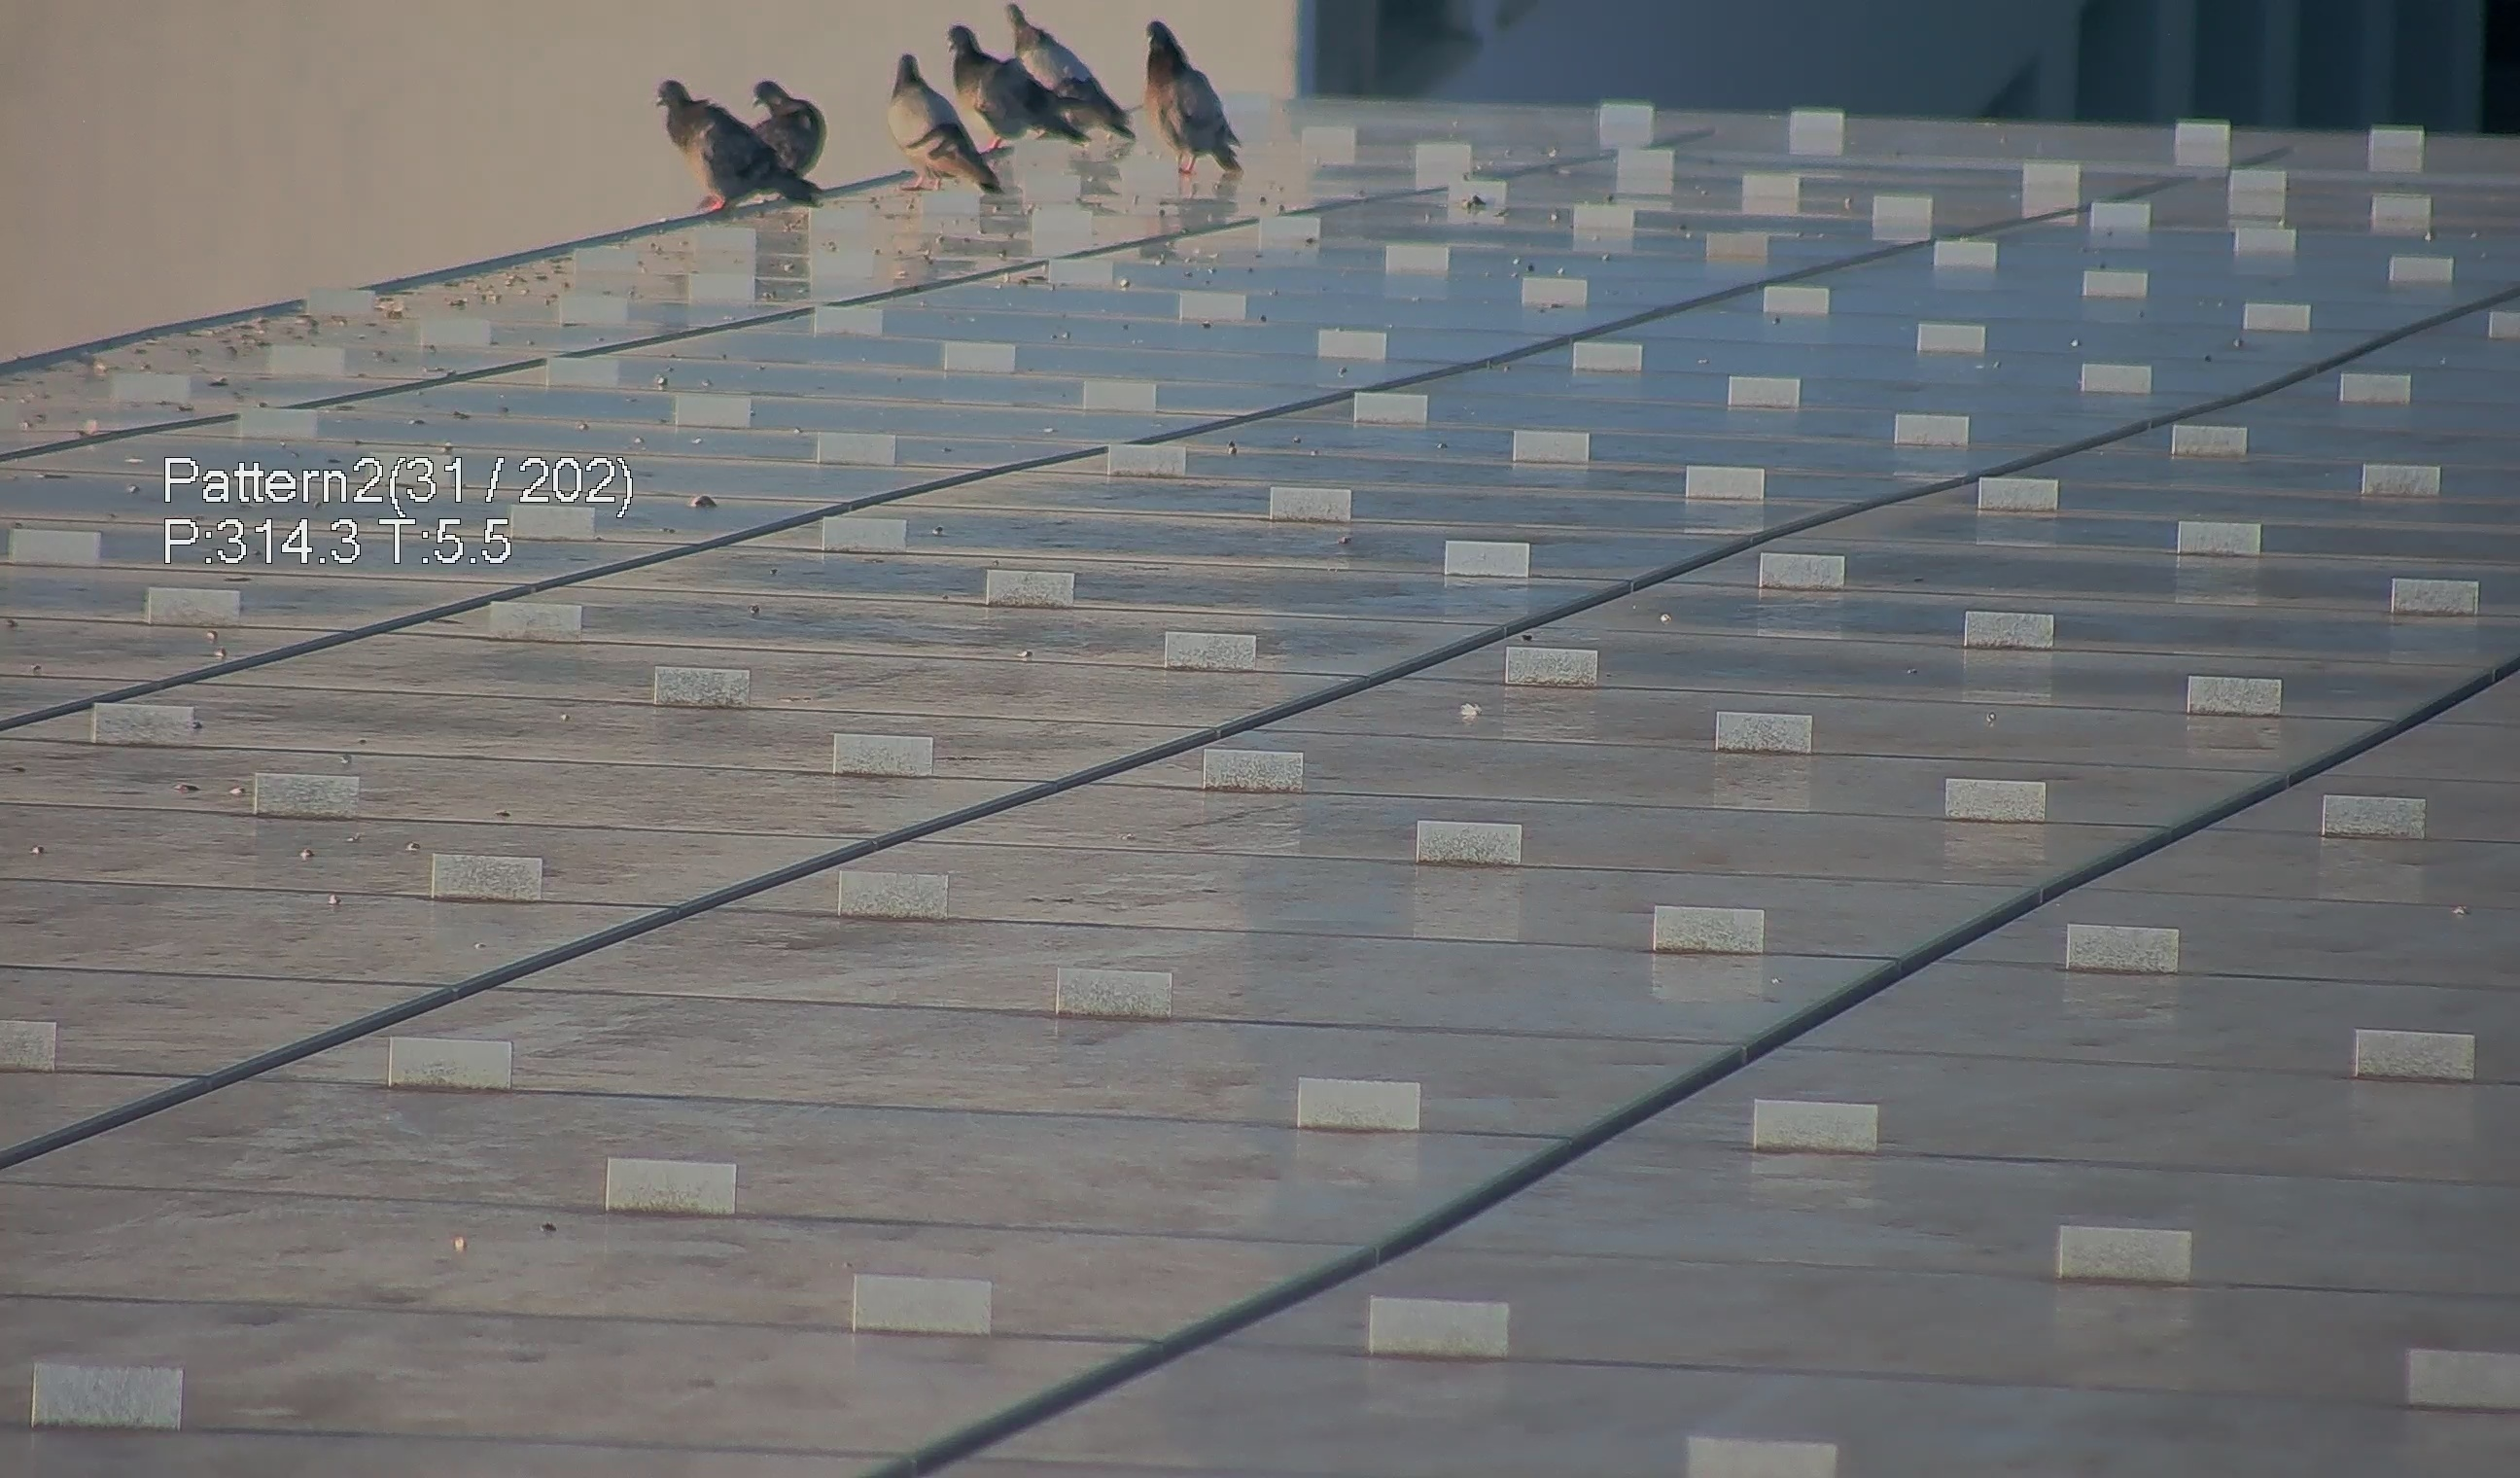Pigeon: (633, 62, 839, 213), (1122, 11, 1252, 187), (862, 35, 1004, 190), (1013, 2, 1138, 151), (944, 16, 1076, 141)
